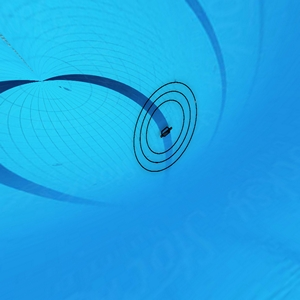circle: (129, 79, 201, 176)
submarine: (160, 125, 173, 137)
